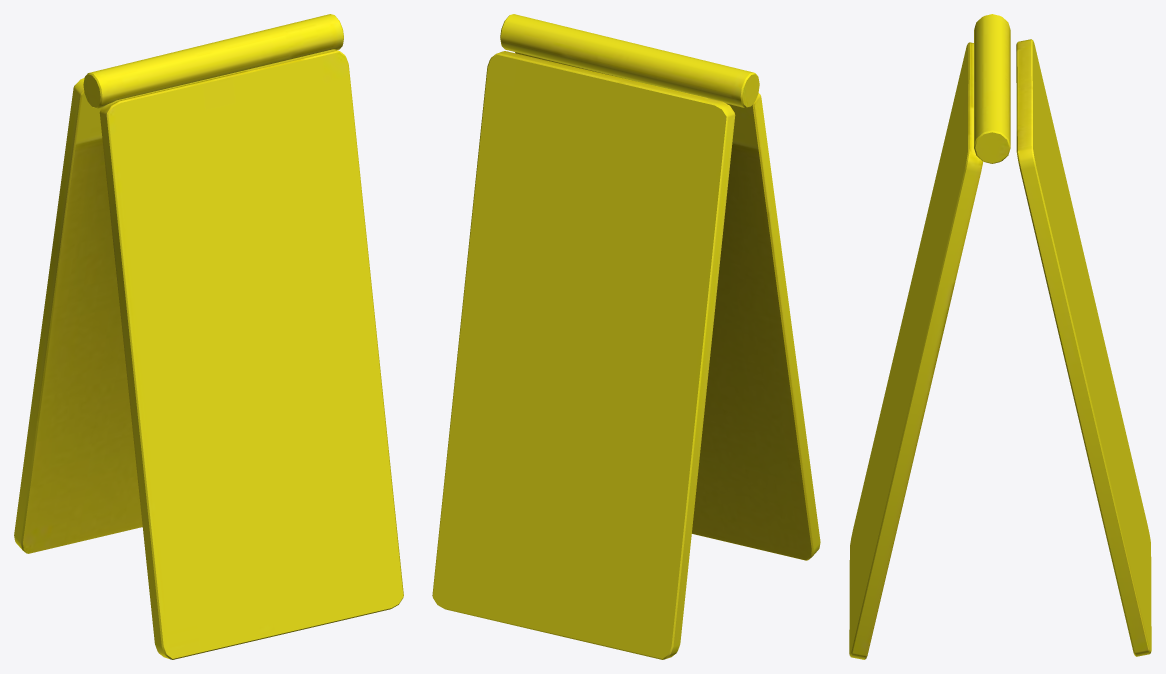
Rendered from LV_wet_floor_sign.glb.
3 renders of one model, left to right at view 1: azimuth 30°, elevation 25°; view 2: azimuth 150°, elevation 25°; view 3: azimuth 270°, elevation 25°, orthographic.
Parts seen in each view (by area): view 1: LV_wet_floor_sign; view 2: LV_wet_floor_sign; view 3: LV_wet_floor_sign.
Boxes of the visible parts, x1,y1,x2,y2 form: LV_wet_floor_sign: (14,14,403,659); LV_wet_floor_sign: (432,14,820,659); LV_wet_floor_sign: (849,14,1151,659).
Bounding box in the file's own units: 0.3 × 0.6367 × 0.3259.
Materials: 1 (1 with a texture image).
